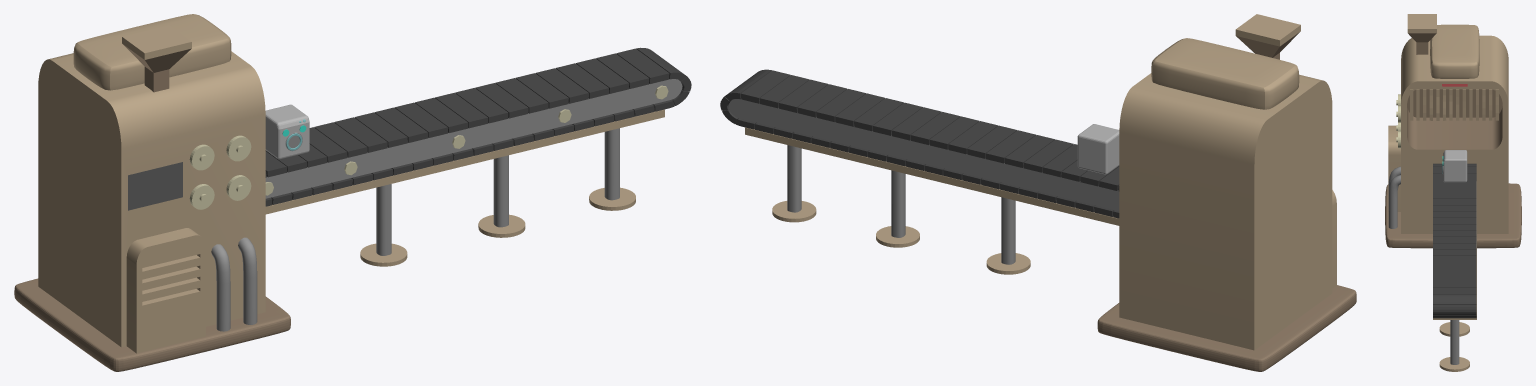
The model's file is factory_anim (1).fbx.
3 renders of one model, left to right at view 1: azimuth 30°, elevation 25°; view 2: azimuth 150°, elevation 25°; view 3: azimuth 270°, elevation 25°, orthographic. The views are drawn at different scales.
Visible parts, largest first — view 1: machine, tapis roulant, bloc machine, intérieur tapis, machine pied, machine haut, Plane.003, pied tapis, Cube, tuyaux, pieds ronds tapis, machine a laver (+2 smaller); view 2: machine, tapis roulant, intérieur tapis, machine haut, machine pied, Plane.003, pied tapis, pieds ronds tapis, Cube, machine a laver; view 3: machine, tapis roulant, machine haut, machine pied, Plane.001, Cube, machine a laver, bloc machine, tuyaux, pieds ronds tapis, pied tapis, Plane.003 (+1 smaller).
Part boxes in pixels (box(x1,y1,x2,y2)): machine: box(38, 51, 265, 347); tapis roulant: box(265, 47, 691, 206); bloc machine: box(126, 228, 205, 353); intérieur tapis: box(265, 79, 682, 198); machine pied: box(14, 278, 290, 371); machine haut: box(73, 14, 231, 90); Plane.003: box(265, 109, 664, 214); pied tapis: box(376, 128, 619, 255); Cube: box(122, 25, 191, 92); tuyaux: box(211, 237, 257, 331); pieds ronds tapis: box(360, 187, 635, 266); machine a laver: box(265, 104, 309, 159); machine: box(1119, 73, 1332, 350); tapis roulant: box(720, 69, 1119, 218); intérieur tapis: box(728, 99, 1119, 210); machine haut: box(1151, 38, 1299, 109); machine pied: box(1097, 285, 1356, 371); Plane.003: box(745, 127, 1119, 225); pied tapis: box(787, 145, 1015, 264); pieds ronds tapis: box(772, 201, 1030, 274); Cube: box(1235, 14, 1300, 59); machine a laver: box(1077, 124, 1119, 174); machine: box(1401, 35, 1508, 233); tapis roulant: box(1433, 163, 1476, 318); machine haut: box(1430, 24, 1479, 78); machine pied: box(1385, 183, 1521, 248); Plane.001: box(1410, 89, 1498, 120); Cube: box(1407, 14, 1436, 54); machine a laver: box(1442, 150, 1467, 182); bloc machine: box(1388, 125, 1400, 211); tuyaux: box(1388, 166, 1400, 228); pieds ronds tapis: box(1439, 322, 1469, 371); pied tapis: box(1450, 320, 1459, 364); Plane.003: box(1433, 181, 1476, 319).
Bounding box in the file's own units: 1074 × 498 × 320.
